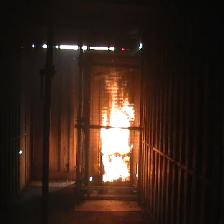fire: (100, 72, 135, 182)
